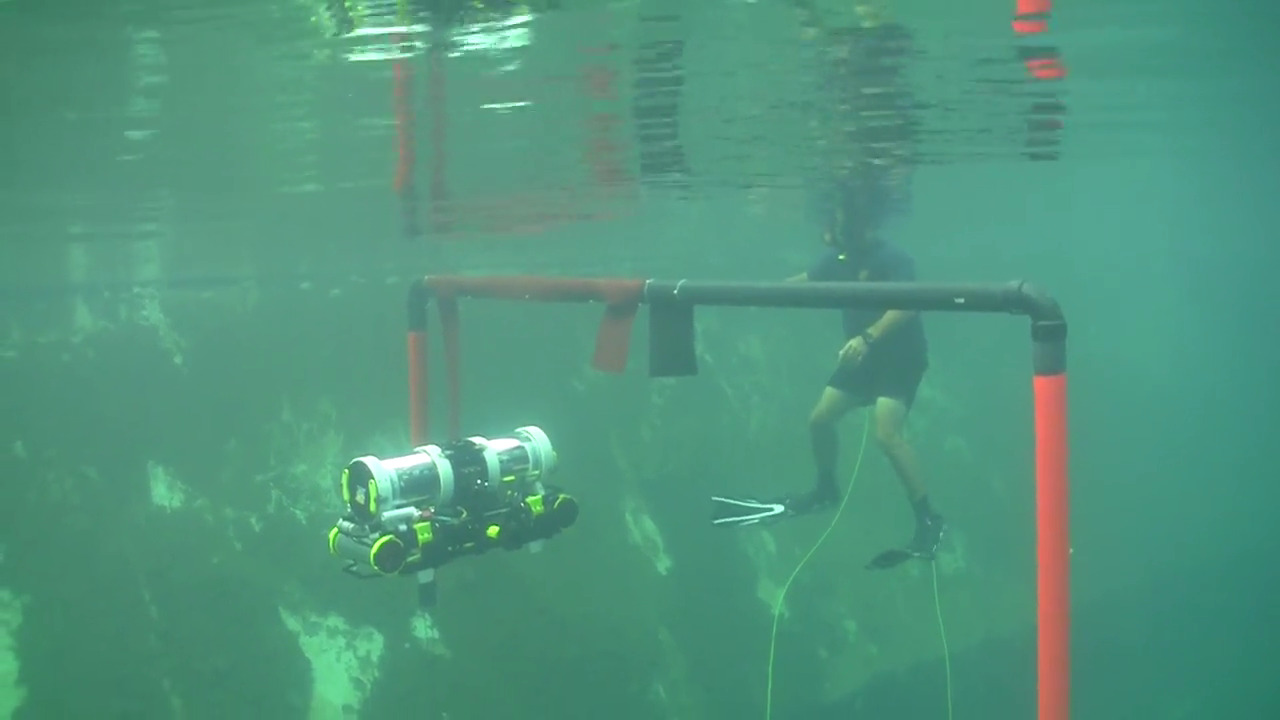gate: (390, 258, 1102, 720)
